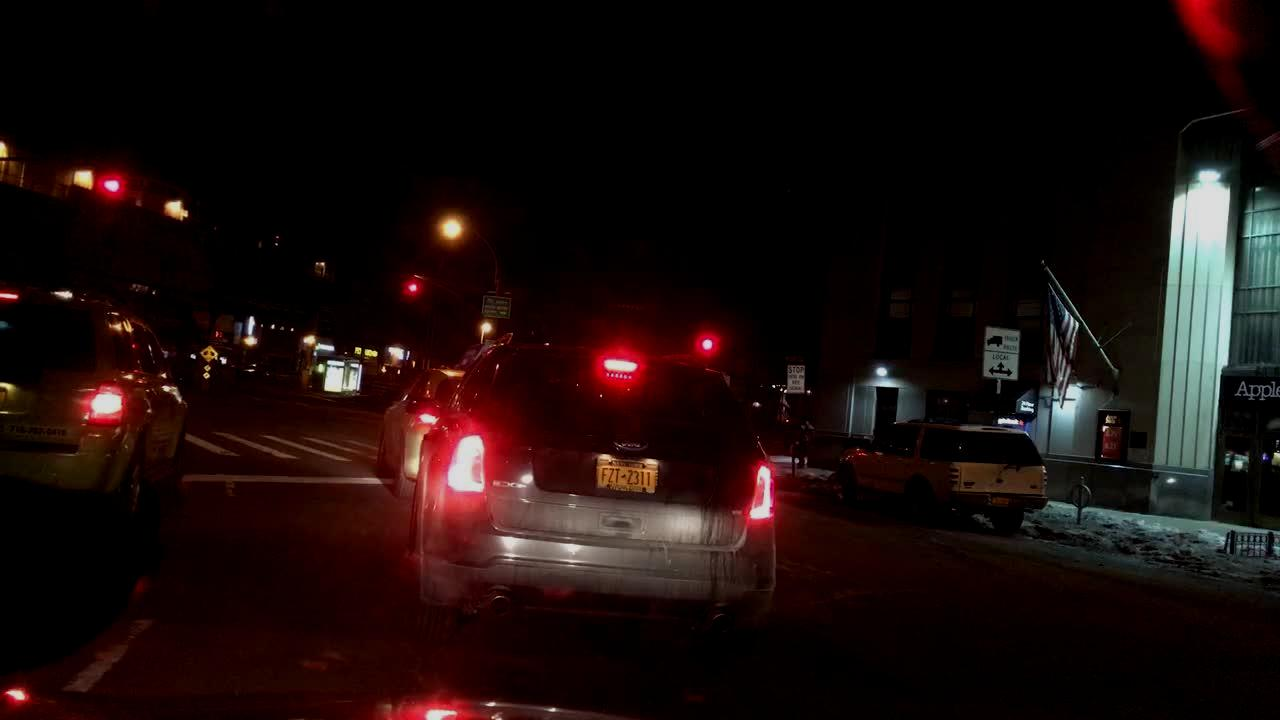ford: (608, 427, 650, 458)
